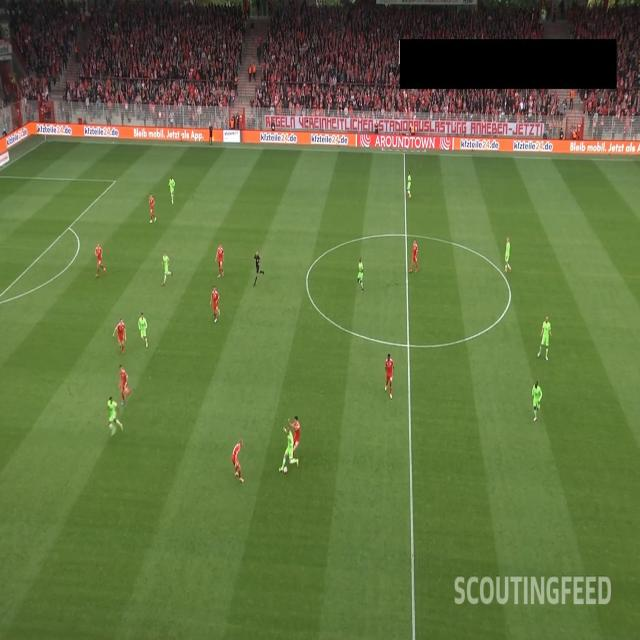ball: (283, 466, 288, 474)
